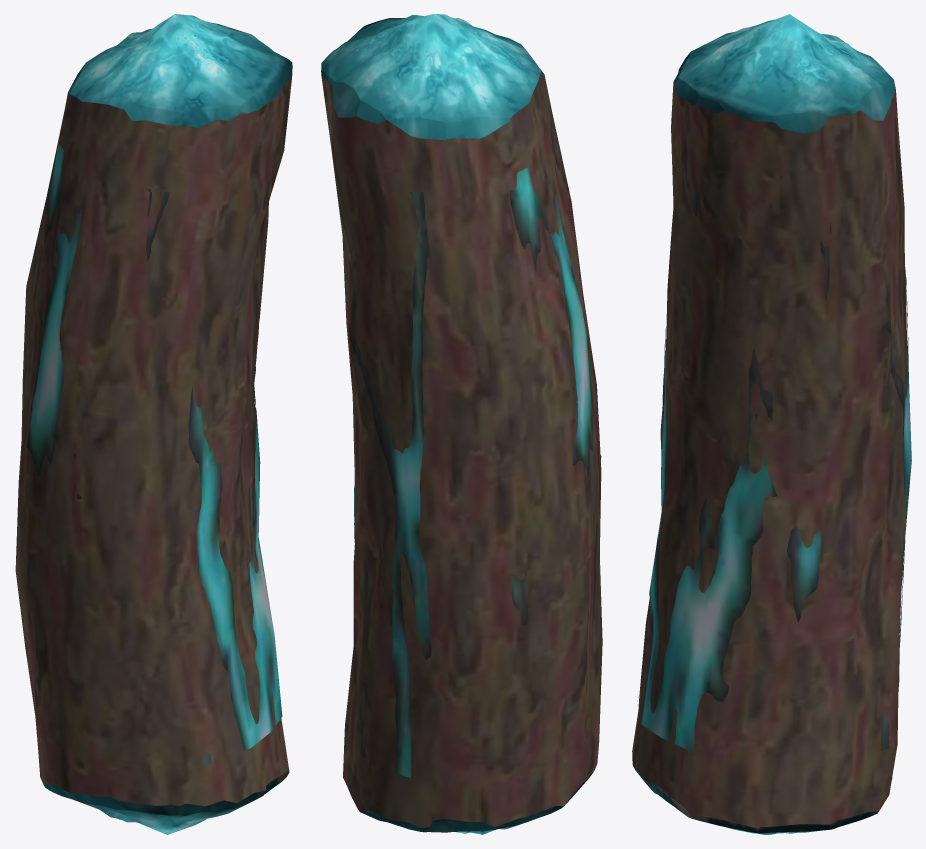
The picture shows the model from 3 angles, left to right: view 1: azimuth 30°, elevation 25°; view 2: azimuth 150°, elevation 25°; view 3: azimuth 270°, elevation 25°; orthographic projection. The views are drawn at different scales.
Visible parts, largest first — view 1: SM_MagicTree_01_quarter_03_LOD0; view 2: SM_MagicTree_01_quarter_03_LOD0; view 3: SM_MagicTree_01_quarter_03_LOD0.
Boxes of the visible parts, box(x1,y1,x2,y2) form: SM_MagicTree_01_quarter_03_LOD0: box(15, 14, 292, 834); SM_MagicTree_01_quarter_03_LOD0: box(321, 14, 602, 834); SM_MagicTree_01_quarter_03_LOD0: box(632, 14, 911, 834).
Bounding box in the file's own units: 0.7914 × 2.47 × 0.7513.
Materials: 1 (1 with a texture image).
